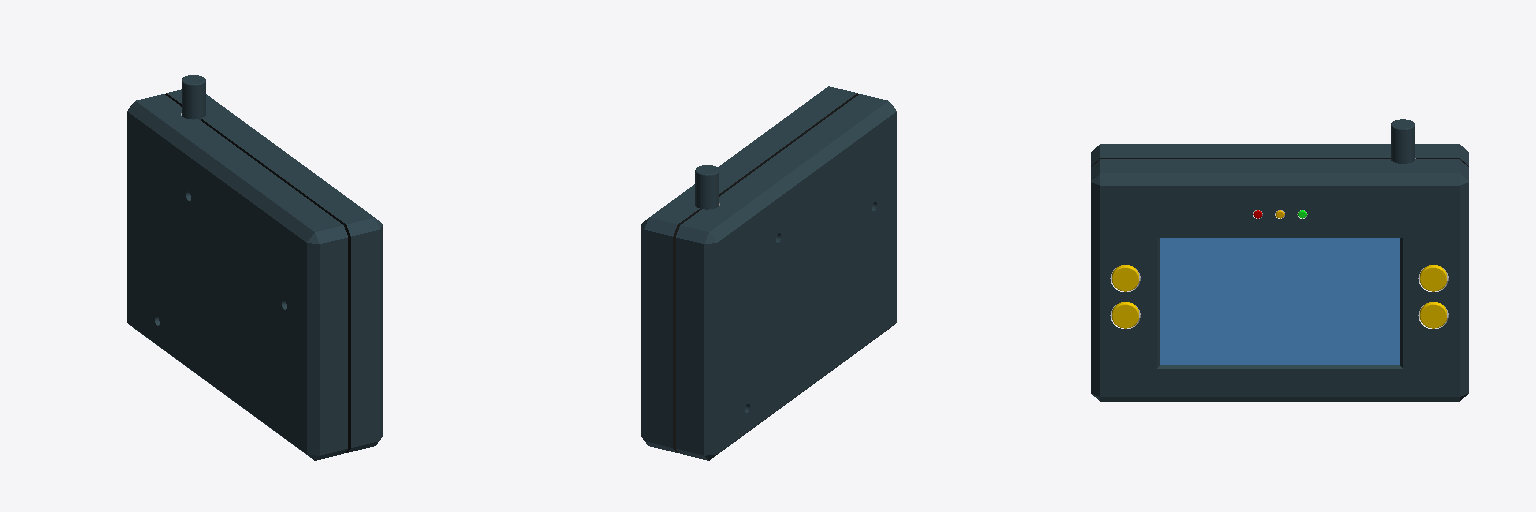
File: 车载网关.obj
The picture shows the model from 3 angles: view 1: azimuth 30°, elevation 25°; view 2: azimuth 150°, elevation 25°; view 3: azimuth 270°, elevation 25°; orthographic projection.
Visible parts, largest first — view 1: 立方体_1, 立方体.1, 圆柱; view 2: 立方体_1, 立方体.1, 圆柱; view 3: 立方体_1, 角锥, 角锥_1, 圆柱, 按键.2, 按键.3, 按键, 按键.1.
Boxes of the visible parts, x1,y1,x2,y2 form: 立方体_1: [127, 89, 382, 460]; 立方体.1: [165, 93, 350, 452]; 圆柱: [182, 75, 205, 119]; 立方体_1: [641, 86, 896, 460]; 立方体.1: [673, 93, 858, 452]; 圆柱: [695, 165, 718, 209]; 立方体_1: [1091, 144, 1468, 401]; 角锥: [1160, 238, 1399, 364]; 角锥_1: [1157, 238, 1402, 368]; 圆柱: [1391, 119, 1414, 163]; 按键.2: [1420, 302, 1446, 328]; 按键.3: [1420, 265, 1446, 291]; 按键: [1112, 302, 1138, 328]; 按键.1: [1112, 265, 1138, 291].
Bounding box in the file's own units: 14.31 × 46.05 × 60.